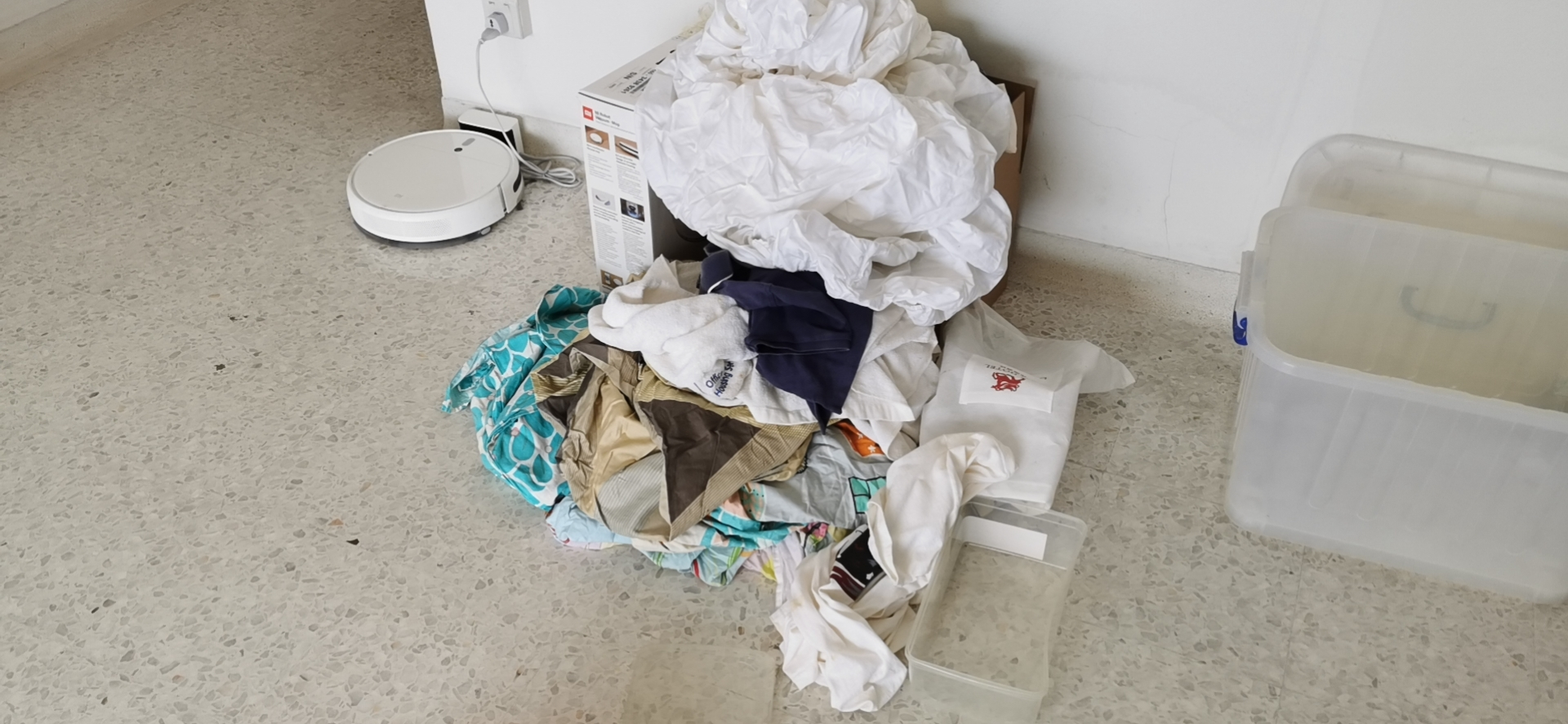bulk_waste: (1227, 136, 1567, 602), (638, 0, 1016, 324), (905, 496, 1087, 723), (578, 38, 704, 288)
normal_waste: (772, 433, 1015, 710), (528, 336, 814, 544), (919, 301, 1134, 503), (443, 285, 604, 509)
